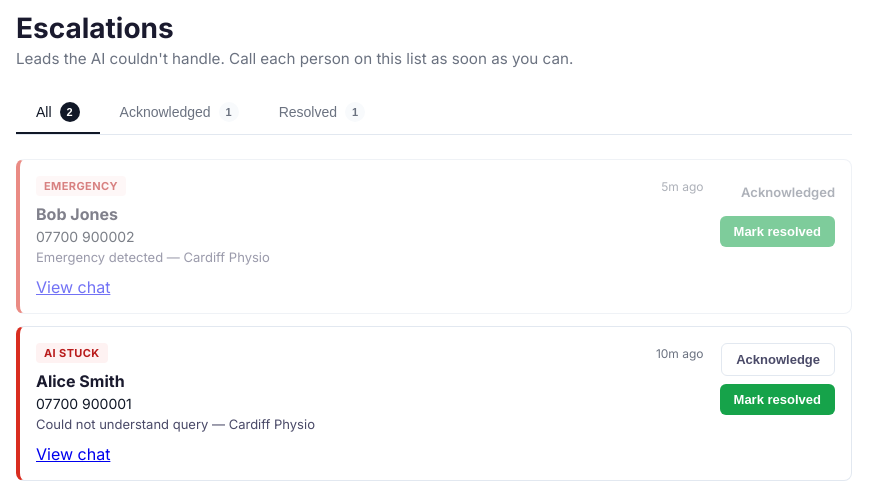
Scenario: EscalationsPage › shows only resolved escalations on Resolved tab
This screenshot has width=869, height=498.
Click the button "Resolved 1". click: (322, 113)
box: [259, 92, 385, 134]
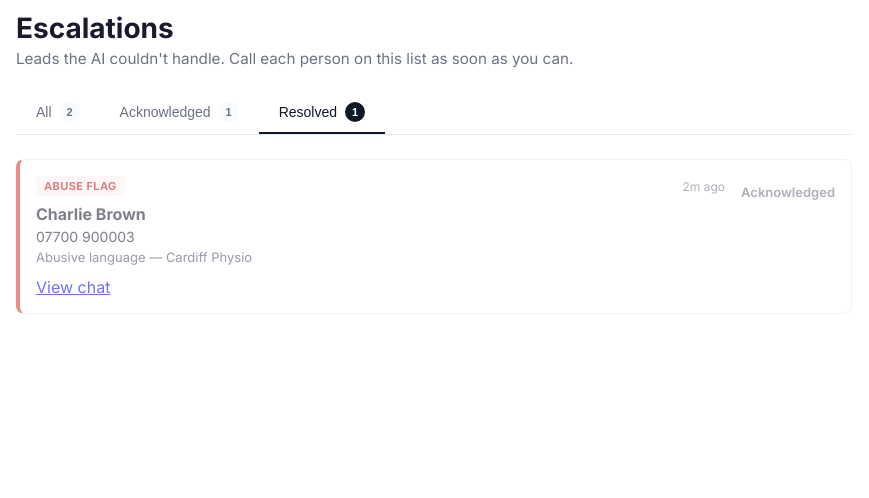
Result: the text "Charlie Brown" is shown at [36, 204, 146, 224]
Result: the text "Alice Smith" is gone
Result: the text "Bob Jones" is gone
